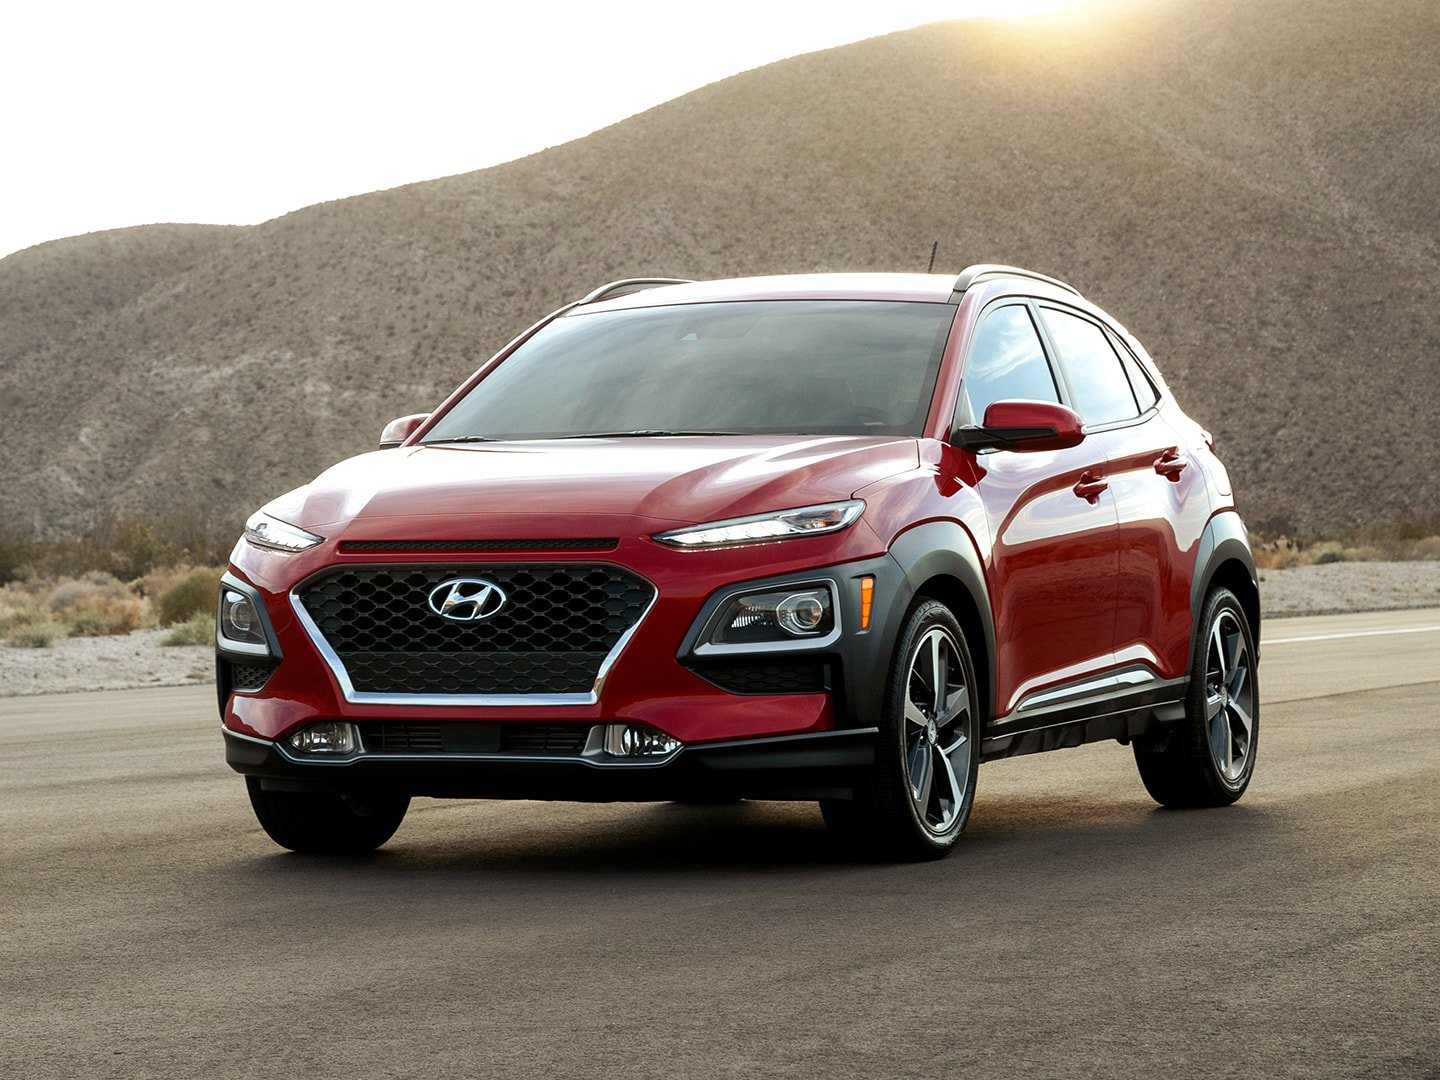car: (213, 265, 1263, 866)
